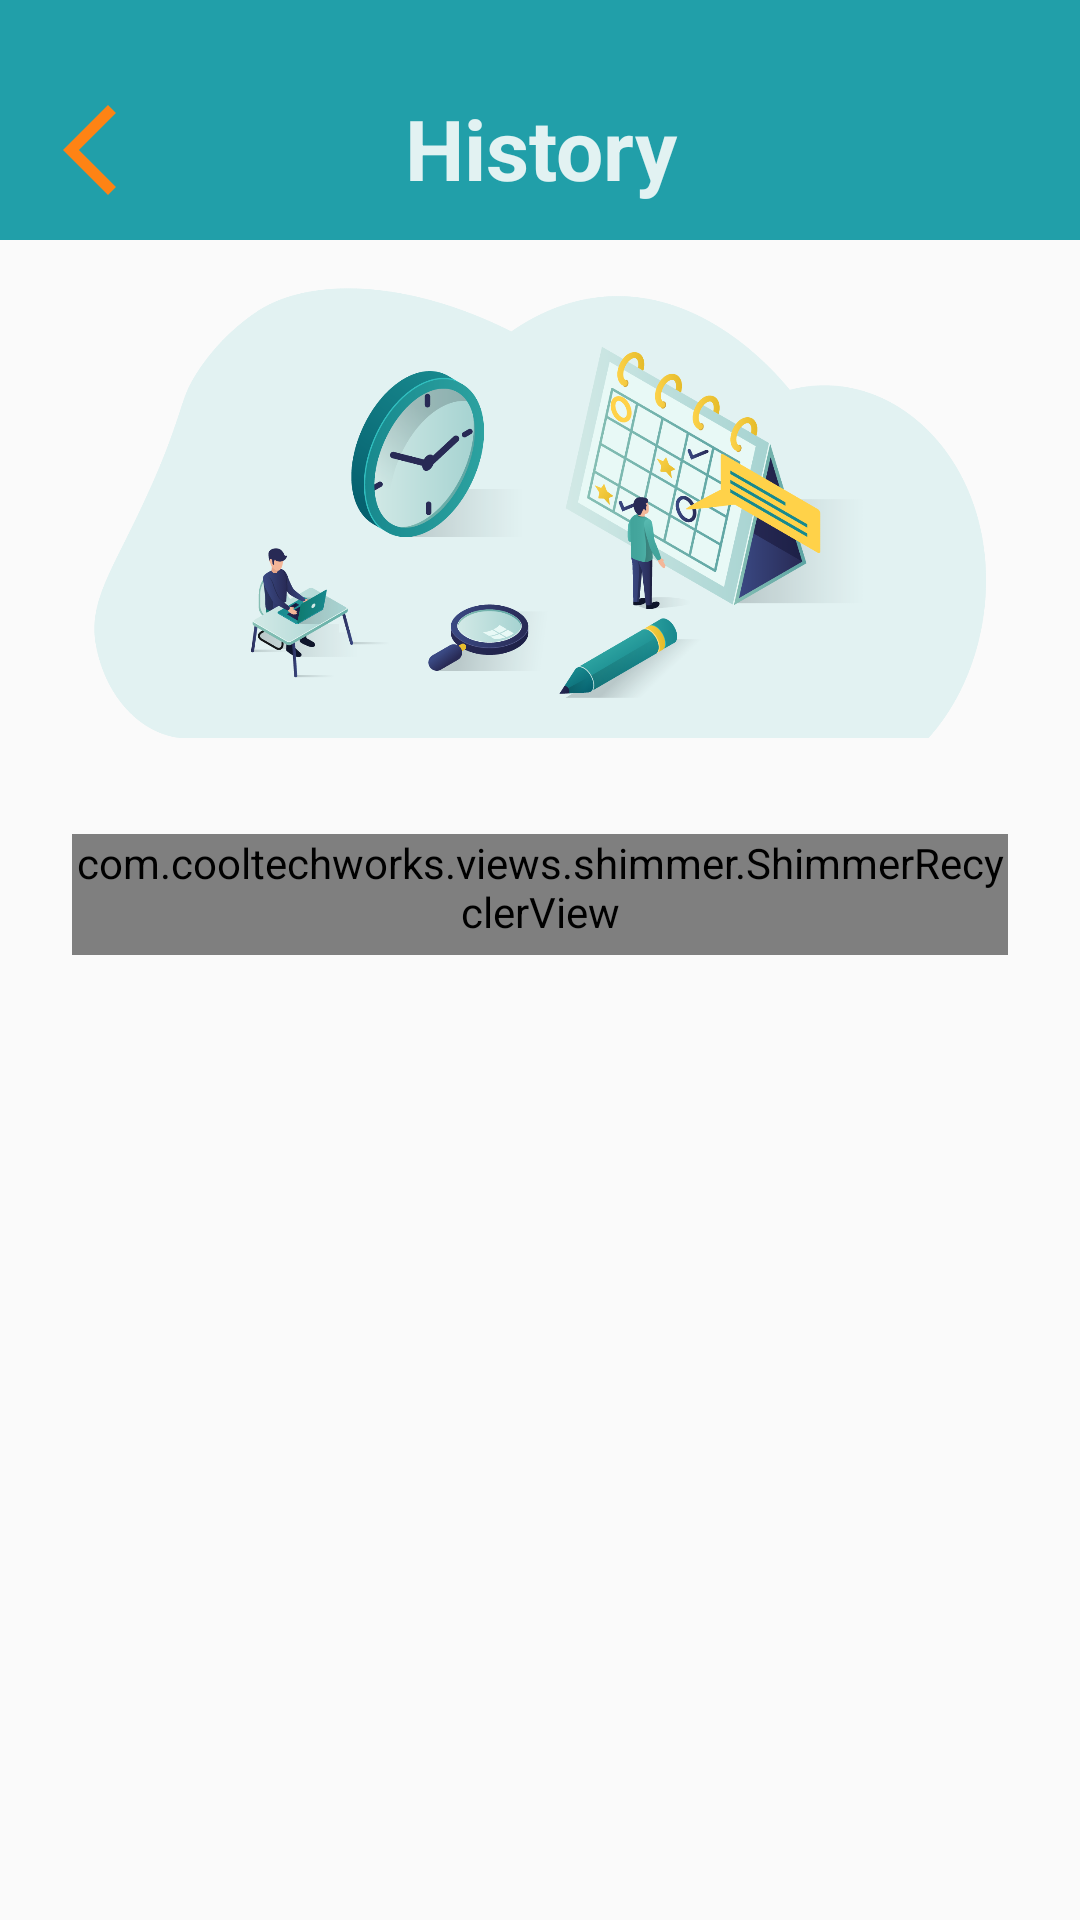

Icons on this 1080×1920 Android screen, each with its box as (x1, y1, x2, y2):
arrow back: (63, 105, 116, 195)
